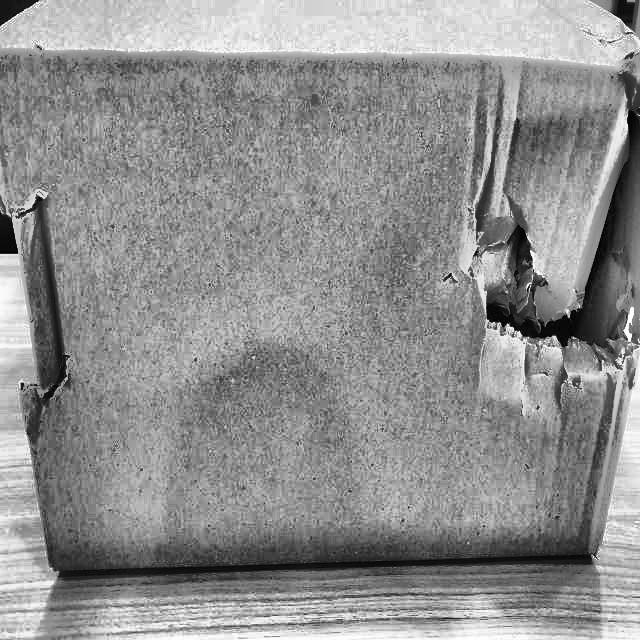box: (0, 0, 639, 584)
hole: (467, 38, 640, 412), (1, 181, 62, 418)
